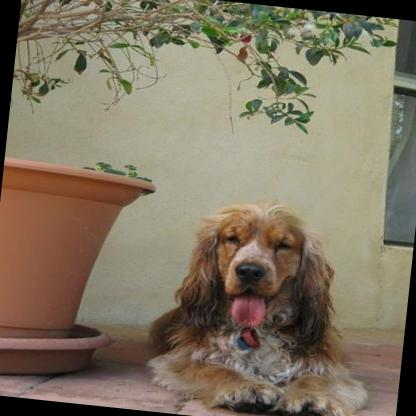cocker_spaniel: (136, 193, 384, 416)
